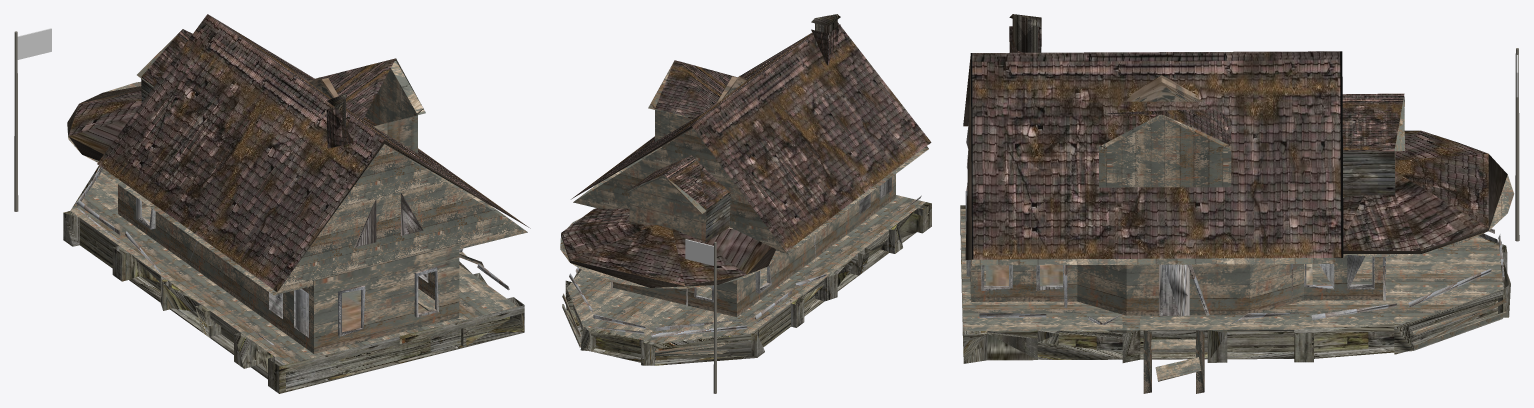
3 views of the same model, side by side, from view 1: azimuth 30°, elevation 25°; view 2: azimuth 150°, elevation 25°; view 3: azimuth 270°, elevation 25° (orthographic). The views are drawn at different scales.
Parts seen in each view (by area): view 1: dweller_building_housing; view 2: dweller_building_housing; view 3: dweller_building_housing.
Boxes of the visible parts, x1,y1,x2,y2 form: dweller_building_housing: (14,14,530,393); dweller_building_housing: (560,14,931,393); dweller_building_housing: (960,14,1519,393).
Bounding box in the file's own units: 12.14 × 9.99 × 18.49.
6 materials, 4 textured.
